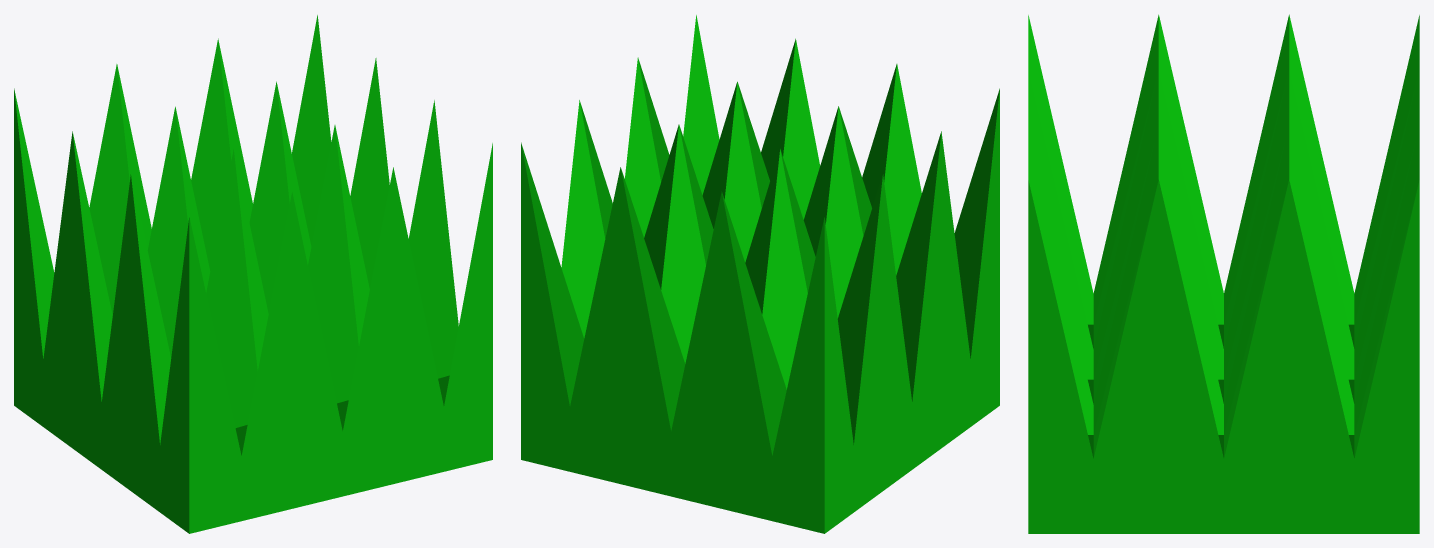
File: lowpolygrass.fbx
3 views of the same model, side by side, from view 1: azimuth 30°, elevation 25°; view 2: azimuth 150°, elevation 25°; view 3: azimuth 270°, elevation 25° (orthographic). The views are drawn at different scales.
Parts seen in each view (by area): view 1: Cube; view 2: Cube; view 3: Cube.
Part boxes in pixels (left/top/right/bottom): Cube: left=14, top=15, right=492, bottom=533; Cube: left=521, top=15, right=999, bottom=533; Cube: left=1028, top=14, right=1419, bottom=533.
Bounding box in the file's own units: 200 × 200 × 200.
